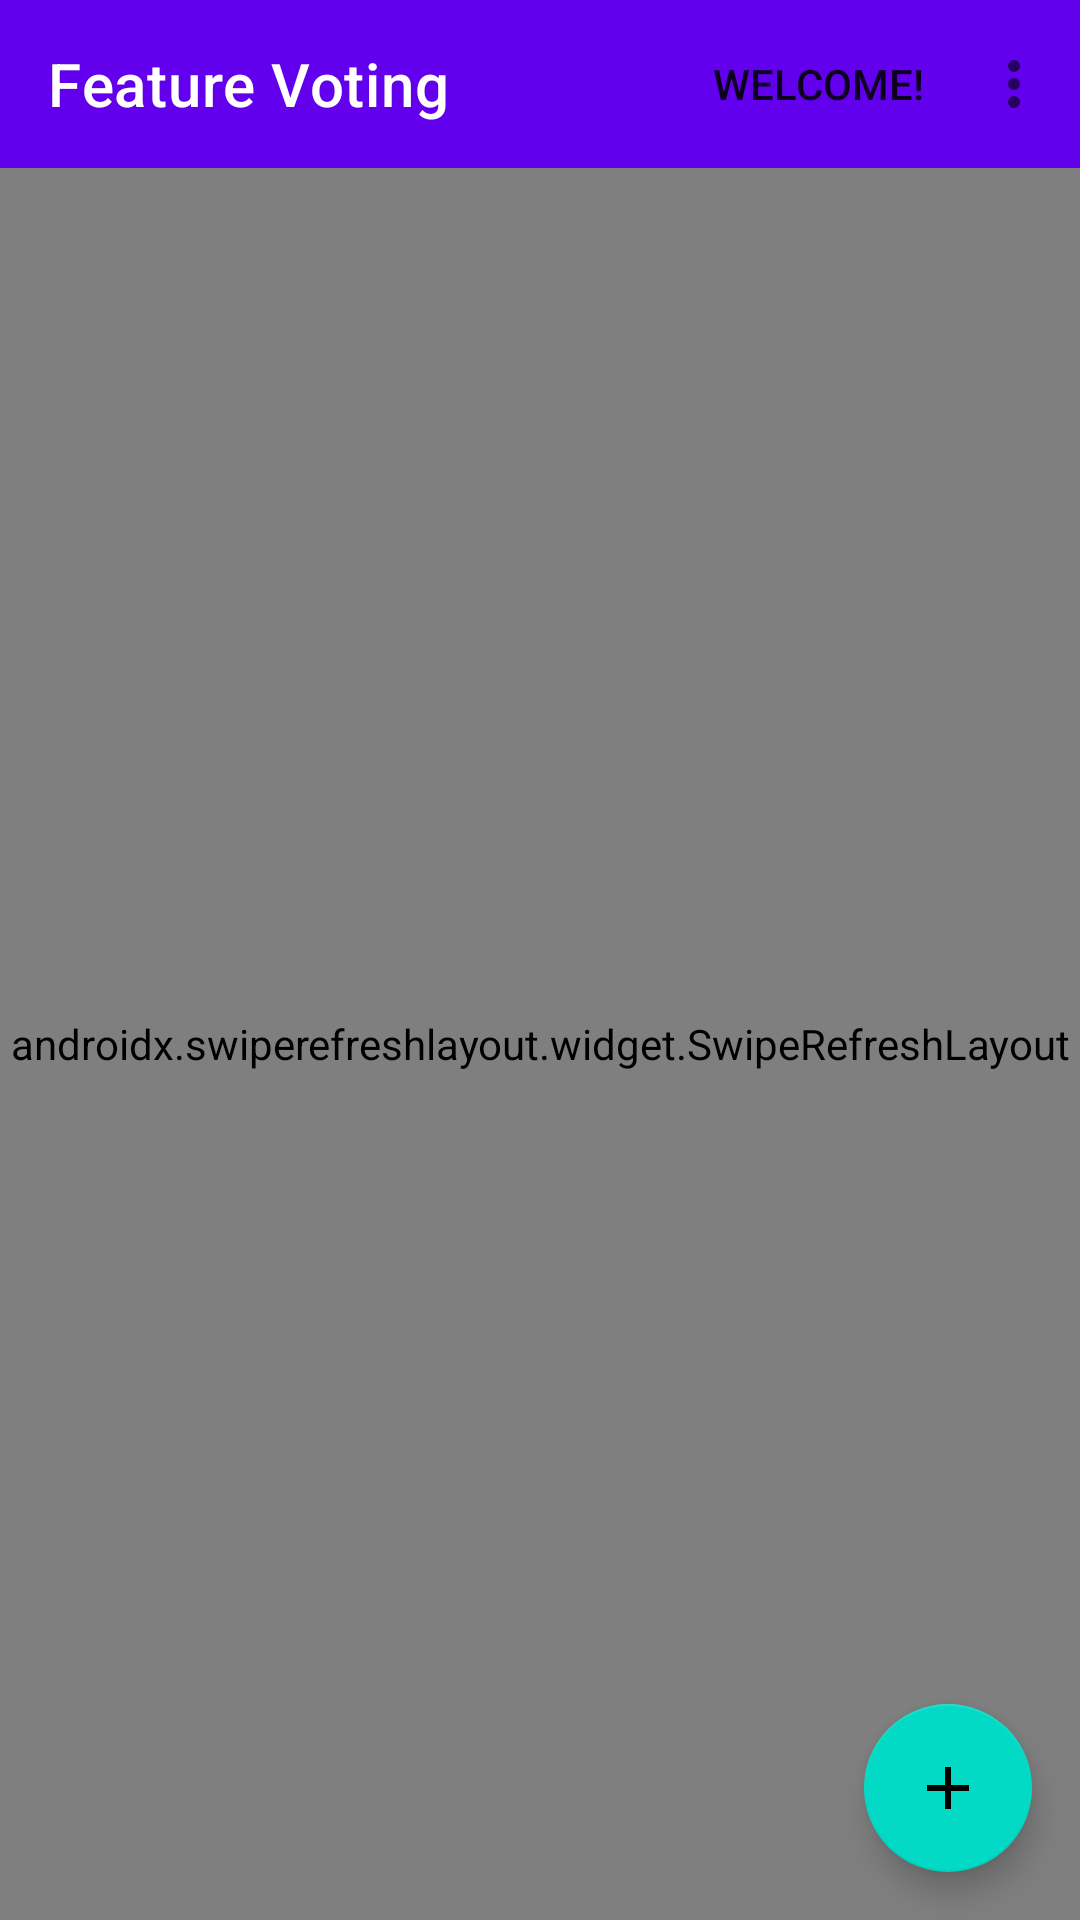

Named icons in this screenshot (1080px x 1920px) and their centers, (x,y):
Add Feature: (948,1788)
